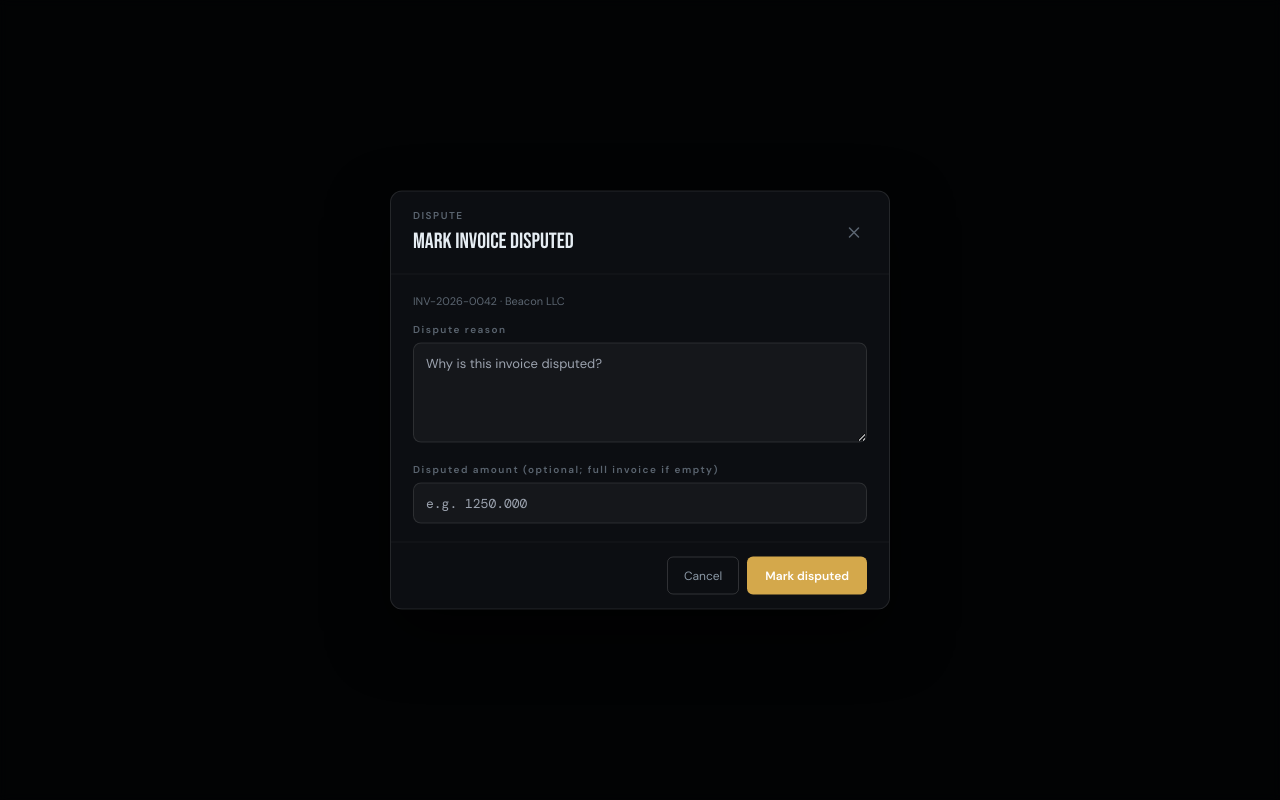
Scenario: DisputeInvoiceModal — AUDIT-ACC-005 rewire › blocks submit on non-KWD-3dp disputed amount
This screenshot has width=1280, height=800.
Type "Reason that is long enough to pass validation" into the text box at (640, 392), box [413,342,867,442]
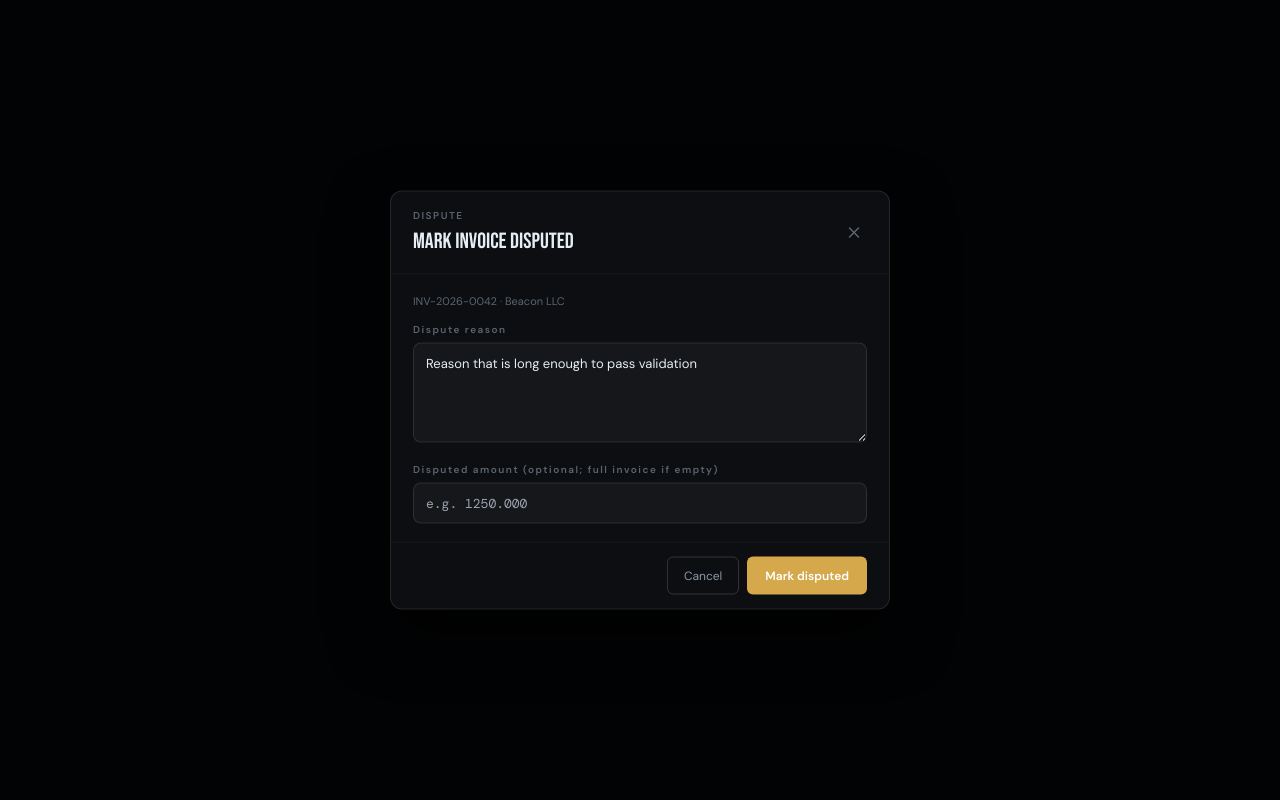
Type "1.23456" into the field with placeholder "e.g. 1250.000" at (640, 503), box [413,482,867,524]
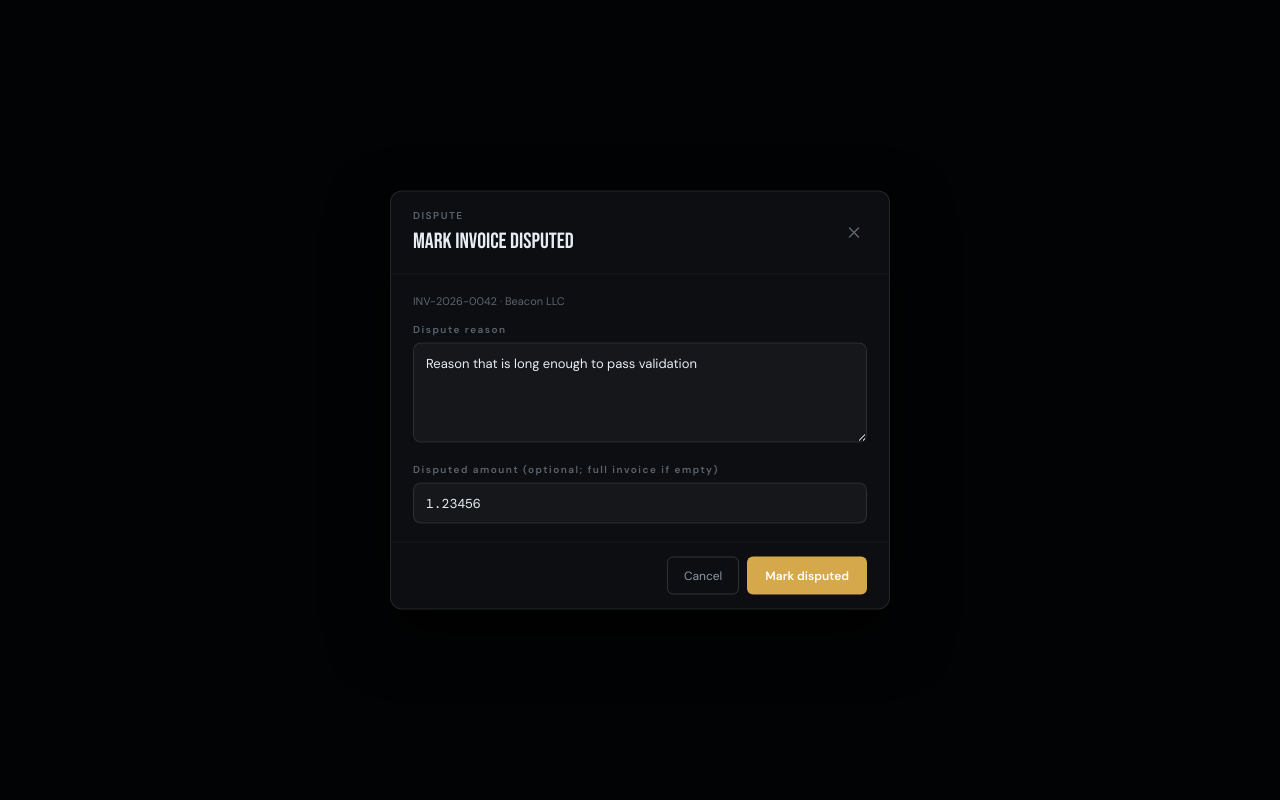
Click the button "Mark disputed" at (807, 576), box [747,556,867,594]
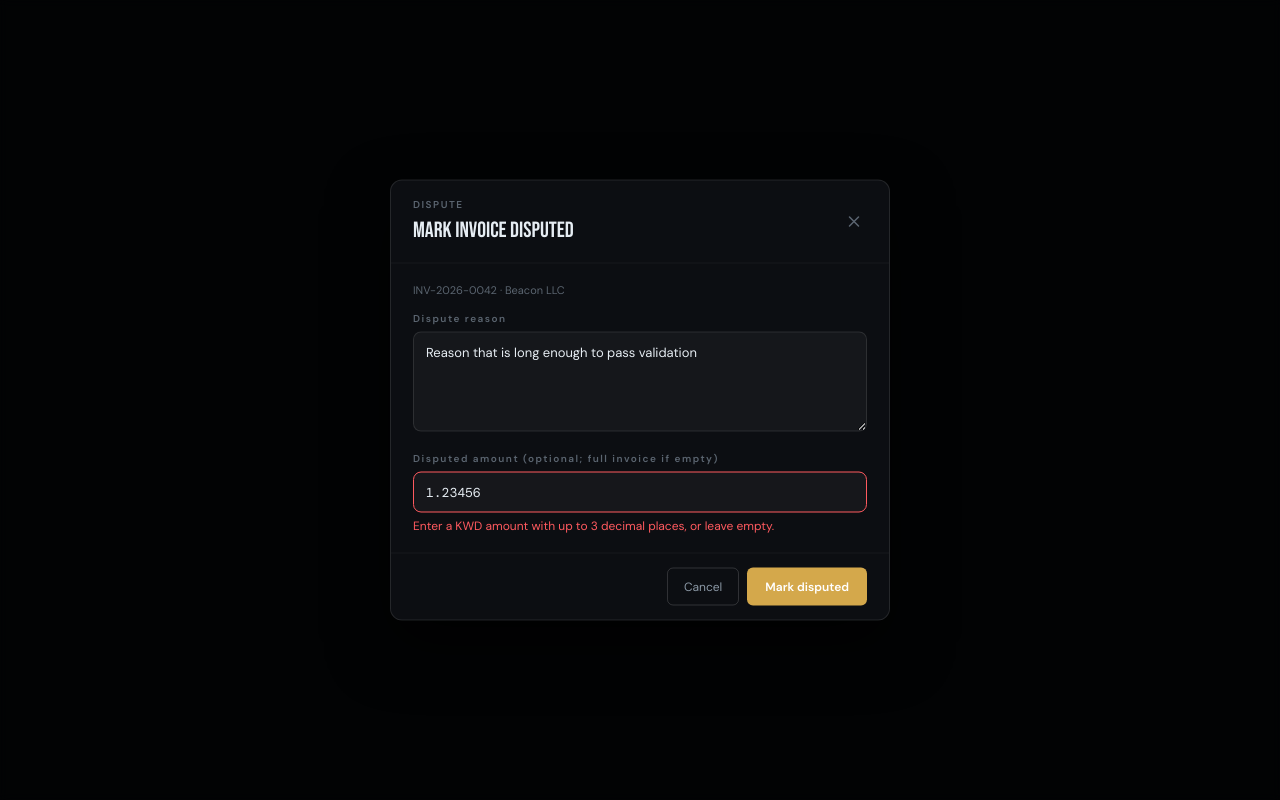
Expected: the text "up to 3 decimal places" is shown, [413,518,774,534]
